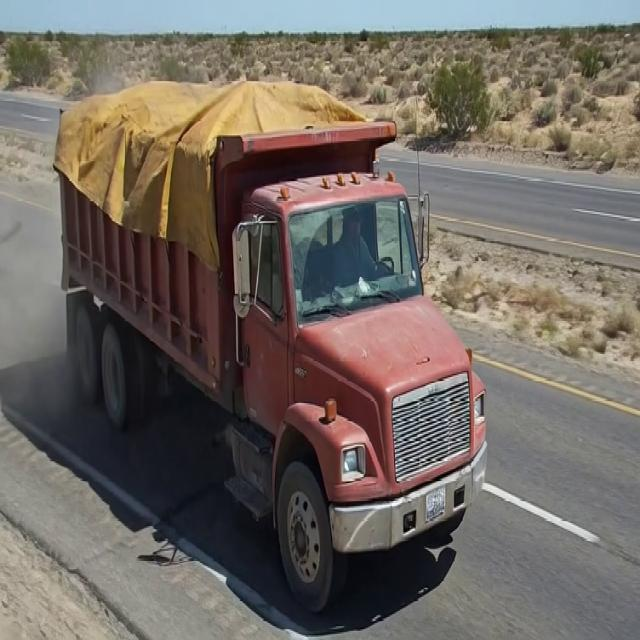trailer: (43, 70, 452, 200)
truck: (37, 31, 519, 599)
